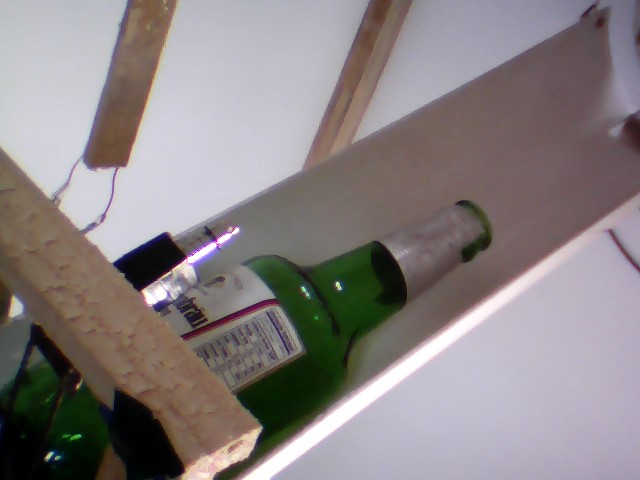vidrio: (192, 195, 503, 441)
